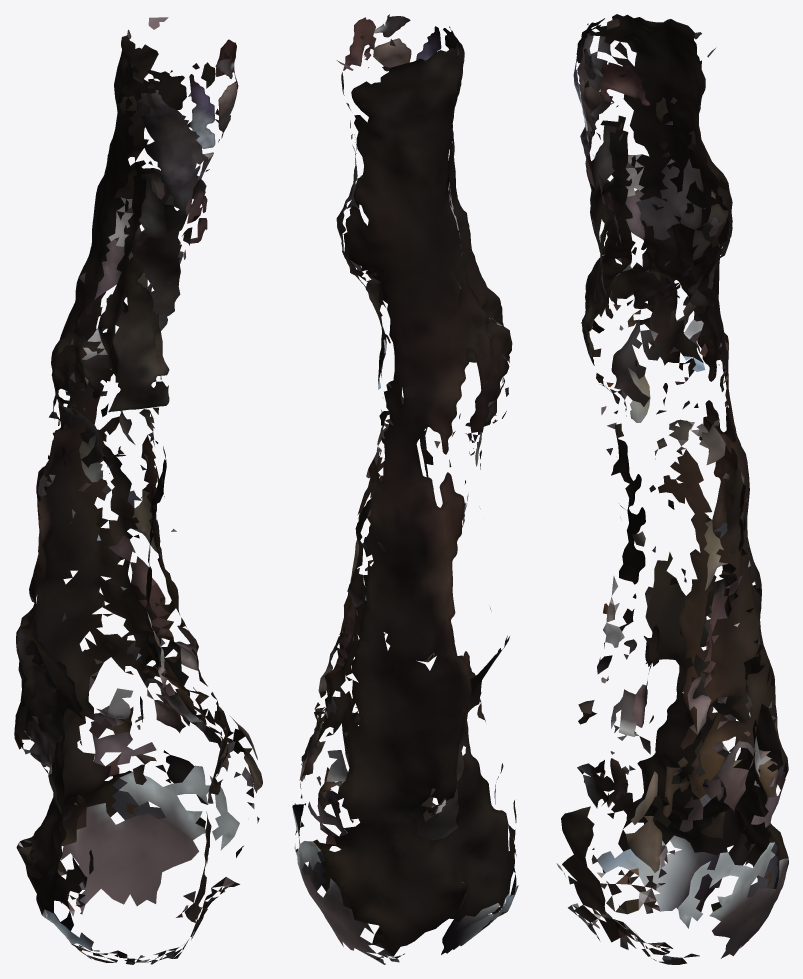
File: Toke_2_bottom.obj
3 views of the same model, side by side, from view 1: azimuth 30°, elevation 25°; view 2: azimuth 150°, elevation 25°; view 3: azimuth 270°, elevation 25° (orthographic). The views are drawn at different scales.
Visible parts, largest first — view 1: Toke_2; view 2: Toke_2; view 3: Toke_2.
Boxes of the visible parts, x1=… form: Toke_2: x1=14, y1=17, x2=262, y2=964; Toke_2: x1=292, y1=14, x2=518, y2=964; Toke_2: x1=556, y1=14, x2=788, y2=964.
Bounding box in the file's own units: 42.98 × 170 × 40.58.
